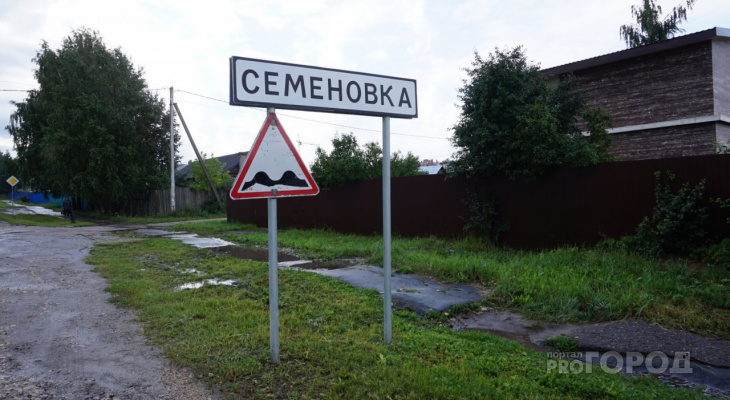1.16.2: (231, 105, 319, 198)
